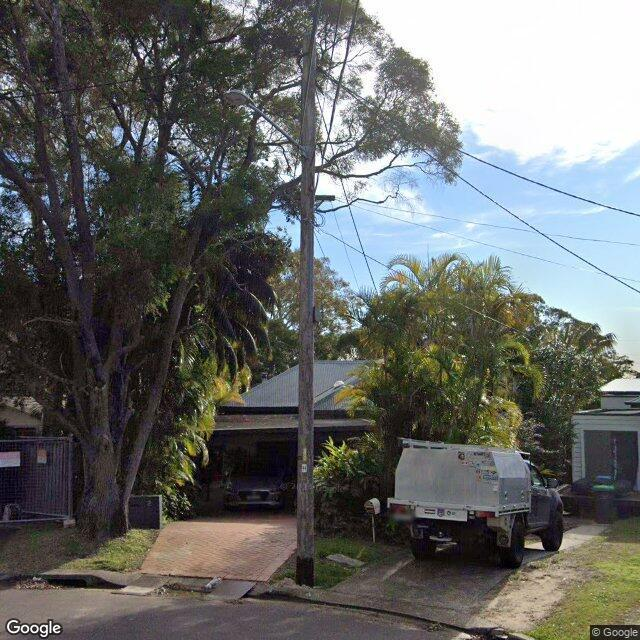crossarm: (283, 194, 335, 212)
timber-pole: (293, 43, 317, 584)
